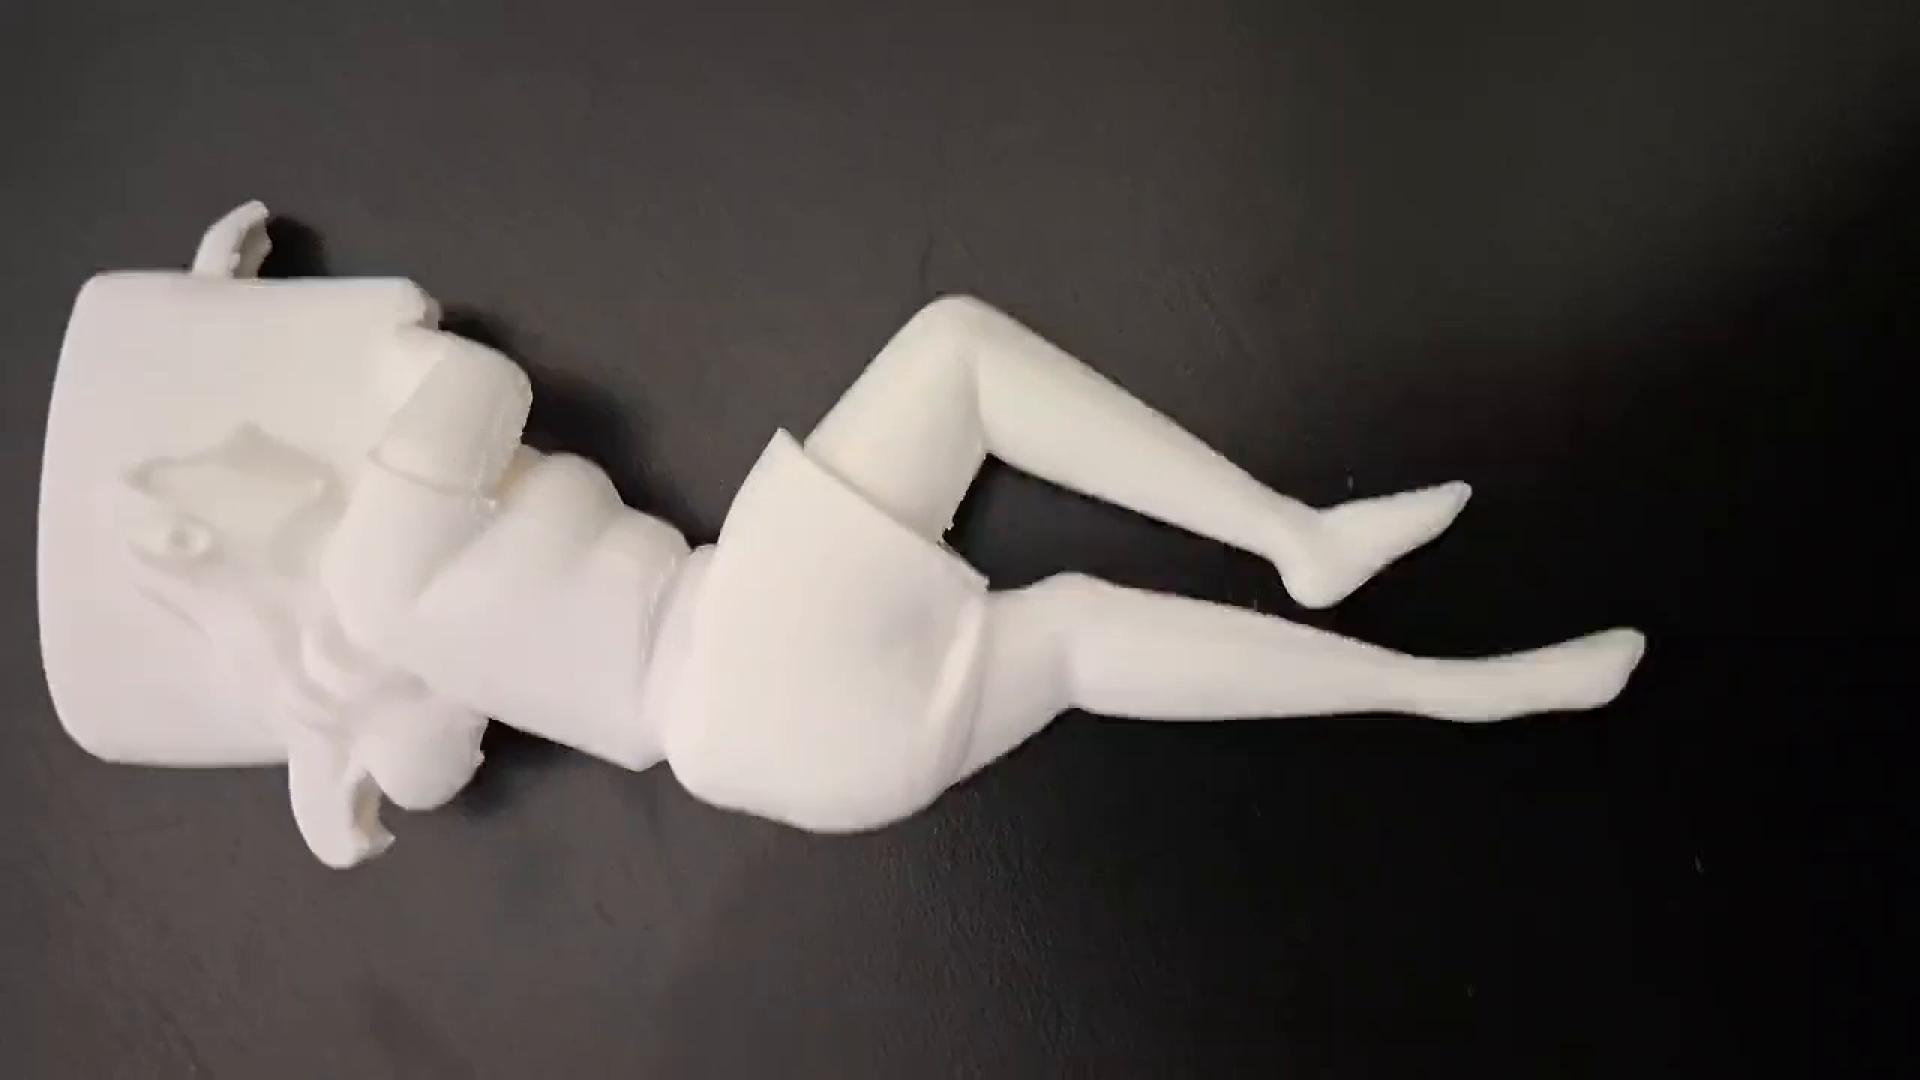Good-style: (36, 196, 1650, 872)
